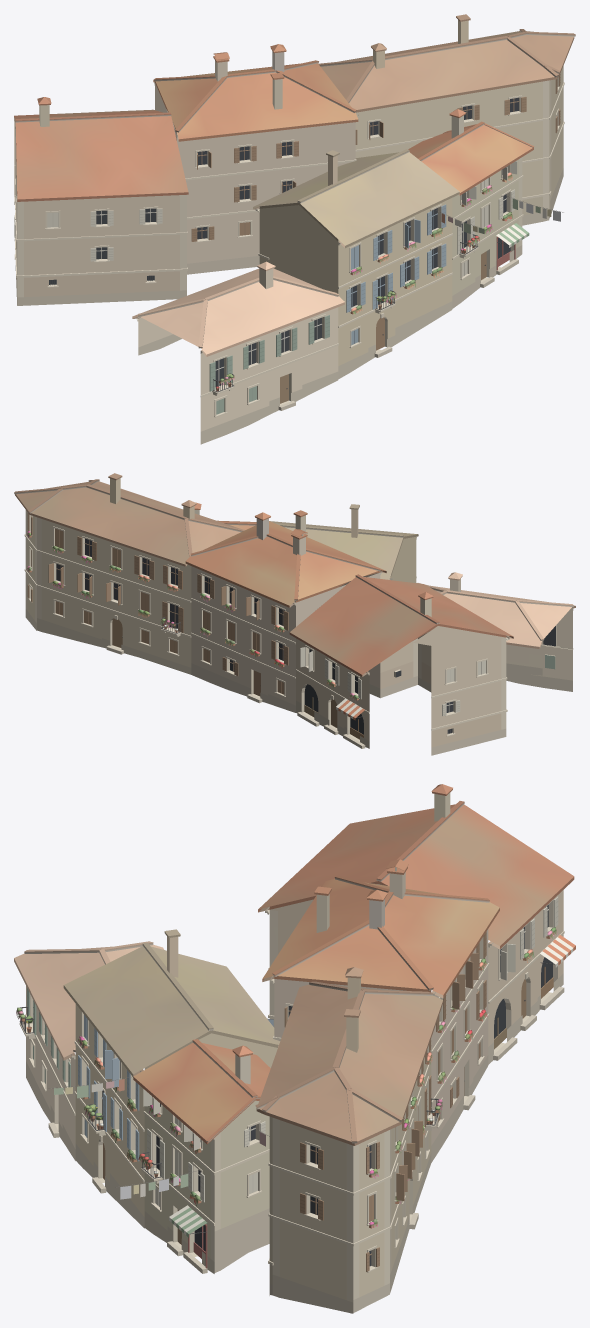
The model's file is SM_BM_BT_blk_23.glb.
3 views of the same model, one above another, from view 1: azimuth 30°, elevation 25°; view 2: azimuth 150°, elevation 25°; view 3: azimuth 270°, elevation 25° (orthographic). The views are drawn at different scales.
Parts seen in each view (by area): view 1: SM_BM_BT_blk_23; view 2: SM_BM_BT_blk_23; view 3: SM_BM_BT_blk_23.
Part boxes in pixels (x1=…): SM_BM_BT_blk_23: x1=14, y1=14, x2=575, y2=444; SM_BM_BT_blk_23: x1=14, y1=473, x2=575, y2=755; SM_BM_BT_blk_23: x1=14, y1=784, x2=575, y2=1313.
Size of the model in its own units: 47.86 by 20.39 by 32.14.
